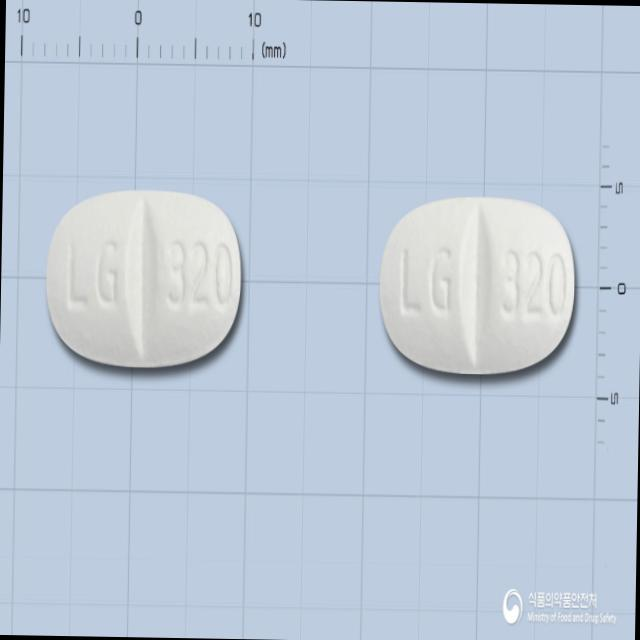Factive: (377, 192, 576, 376), (44, 186, 242, 370)
